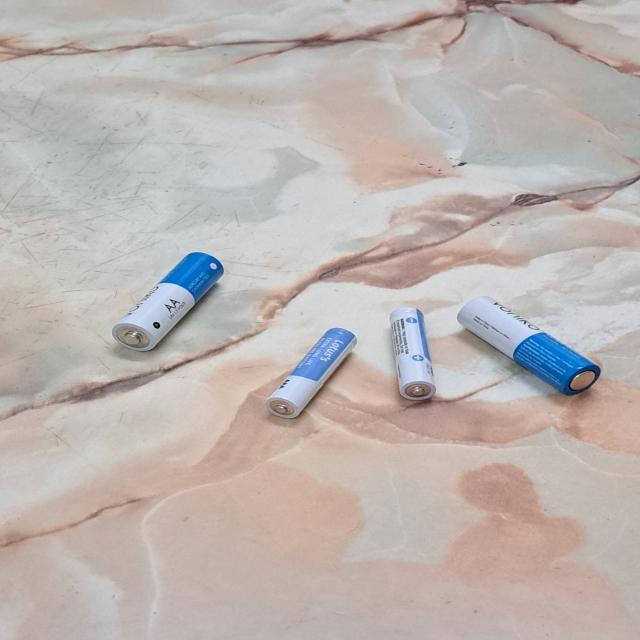battery: (452, 294, 604, 396), (110, 251, 228, 353), (266, 324, 361, 423), (386, 306, 439, 402)
